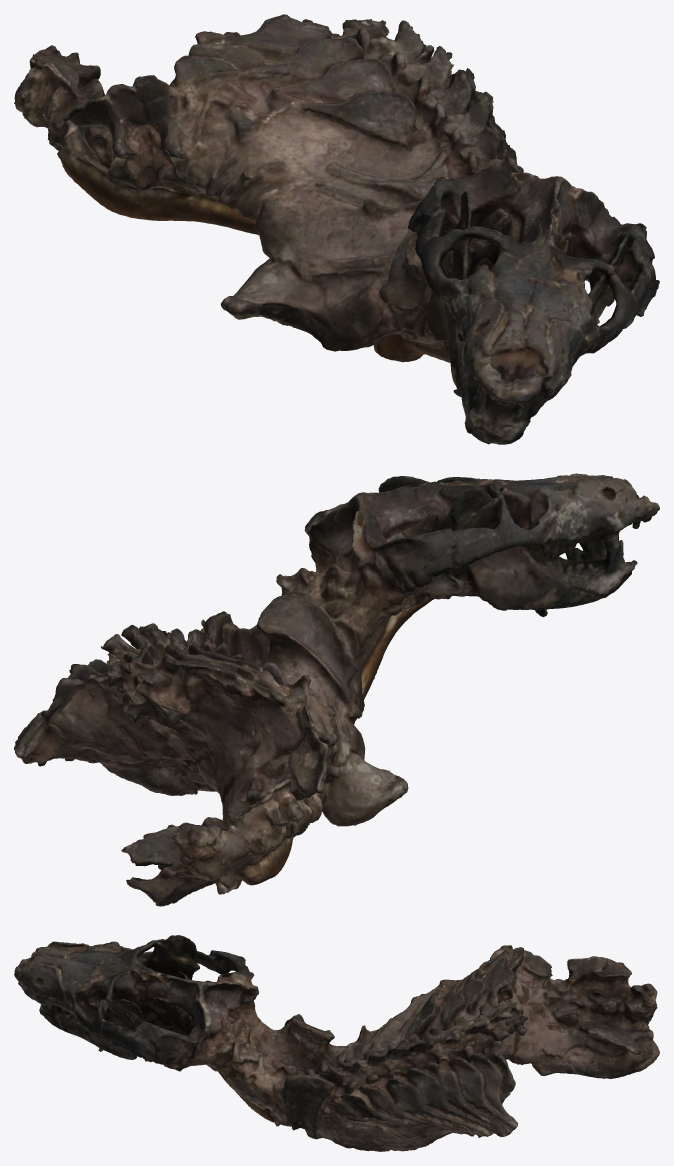
3 renders of one model, top to bottom at view 1: azimuth 30°, elevation 25°; view 2: azimuth 150°, elevation 25°; view 3: azimuth 270°, elevation 25°, orthographic. The views are drawn at different scales.
Visible parts, largest first — view 1: orientacao; view 2: orientacao; view 3: orientacao.
Part boxes in pixels (left/top/right/bottom): orientacao: left=14, top=14, right=659, bottom=444; orientacao: left=14, top=473, right=659, bottom=906; orientacao: left=14, top=935, right=659, bottom=1151.
Bounding box in the file's own units: 3300 × 2304 × 7451.
Materials: 1 (1 with a texture image).
